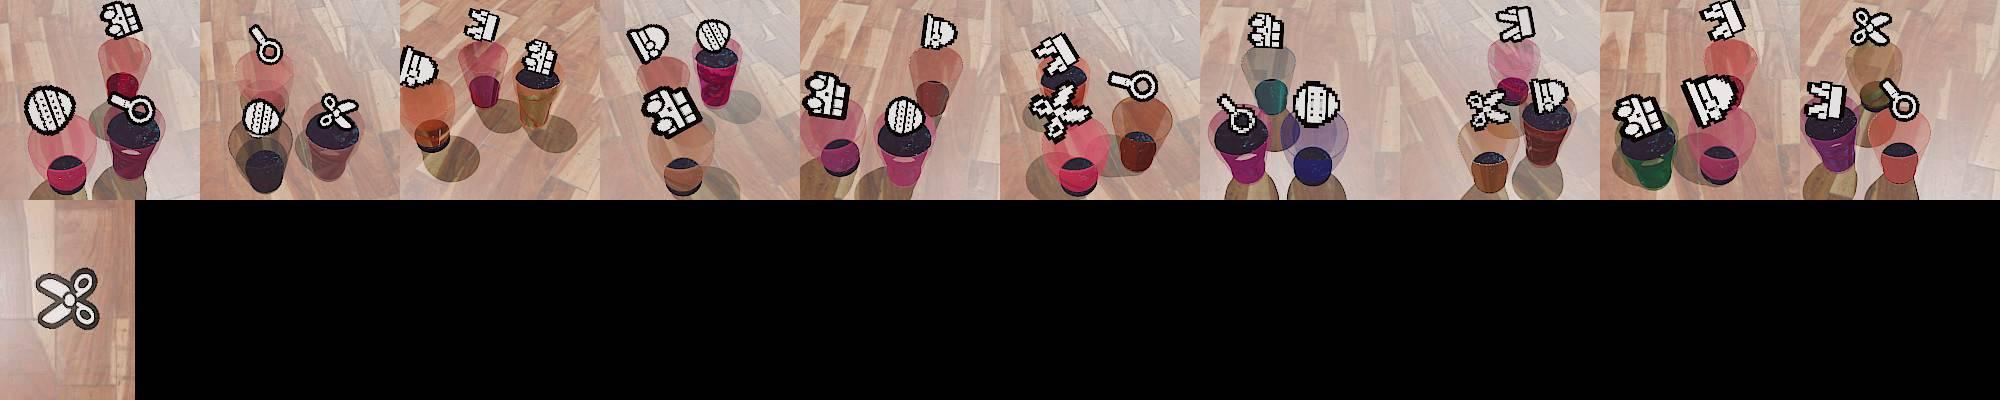icon: (33, 268, 103, 332), (1027, 79, 1092, 140), (1681, 73, 1744, 129), (640, 84, 703, 139), (23, 84, 78, 135), (1612, 92, 1667, 143), (801, 70, 852, 121), (1291, 80, 1342, 126), (1466, 85, 1513, 130), (1032, 32, 1082, 73), (1698, 0, 1745, 42), (1806, 79, 1848, 124), (625, 23, 670, 65), (107, 89, 157, 126), (1851, 6, 1895, 47), (1217, 93, 1258, 138), (1107, 69, 1157, 104), (1528, 76, 1571, 117), (1881, 78, 1922, 121), (399, 45, 439, 89), (884, 94, 926, 135), (520, 38, 560, 82), (242, 96, 283, 136), (1496, 4, 1536, 43), (319, 92, 360, 130), (1247, 10, 1284, 51), (920, 13, 958, 51), (249, 23, 283, 65), (464, 6, 501, 45), (695, 19, 731, 54), (99, 1, 130, 37)
